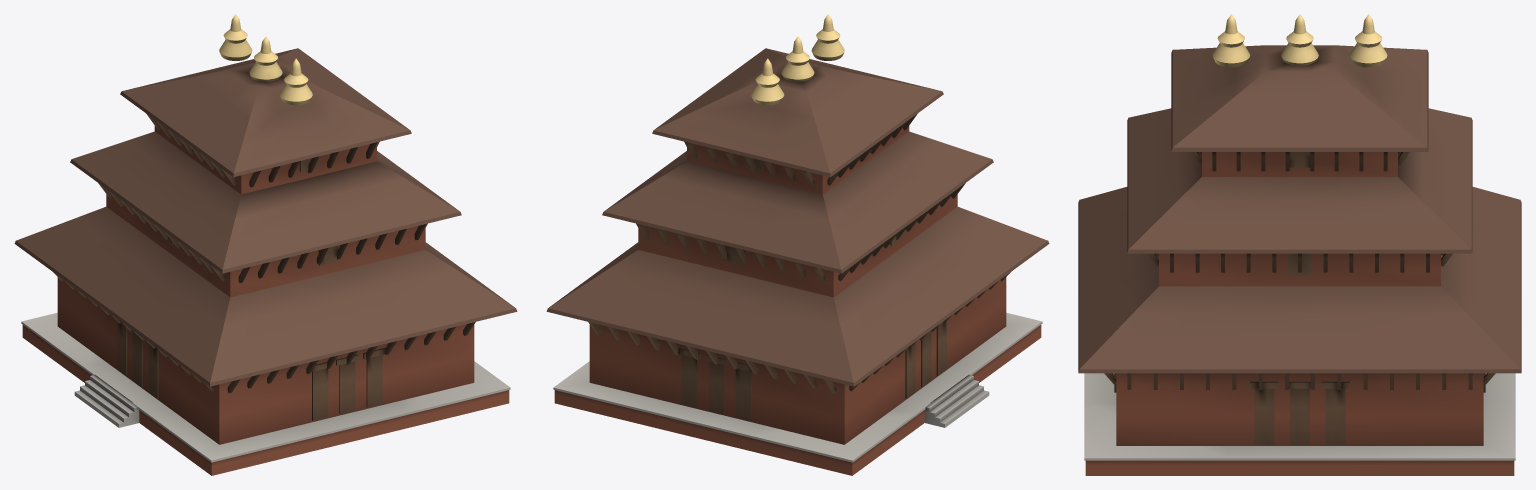
The model's file is bhairavnath.glb.
The picture shows the model from 3 angles, left to right: view 1: azimuth 30°, elevation 25°; view 2: azimuth 150°, elevation 25°; view 3: azimuth 270°, elevation 25°; orthographic projection. The views are drawn at different scales.
Parts seen in each view (by area): view 1: model-tile, model-brick, model-wood, model-gold; view 2: model-tile, model-brick, model-wood, model-gold; view 3: model-tile, model-brick, model-wood, model-gold.
Part boxes in pixels (box(x1,y1,x2,y2)): model-tile: box(14, 48, 517, 386); model-brick: box(21, 126, 510, 475); model-wood: box(53, 113, 475, 420); model-gold: box(219, 14, 312, 105); model-tile: box(546, 48, 1049, 386); model-brick: box(553, 126, 1042, 475); model-wood: box(588, 113, 1010, 420); model-gold: box(751, 14, 844, 105); model-tile: box(1078, 45, 1521, 373); model-brick: box(1084, 152, 1515, 475); model-wood: box(1104, 152, 1495, 444); model-gold: box(1212, 14, 1387, 67).
Size of the model in its own units: 19 by 18.8 by 19.91.
4 materials, 4 textured.
